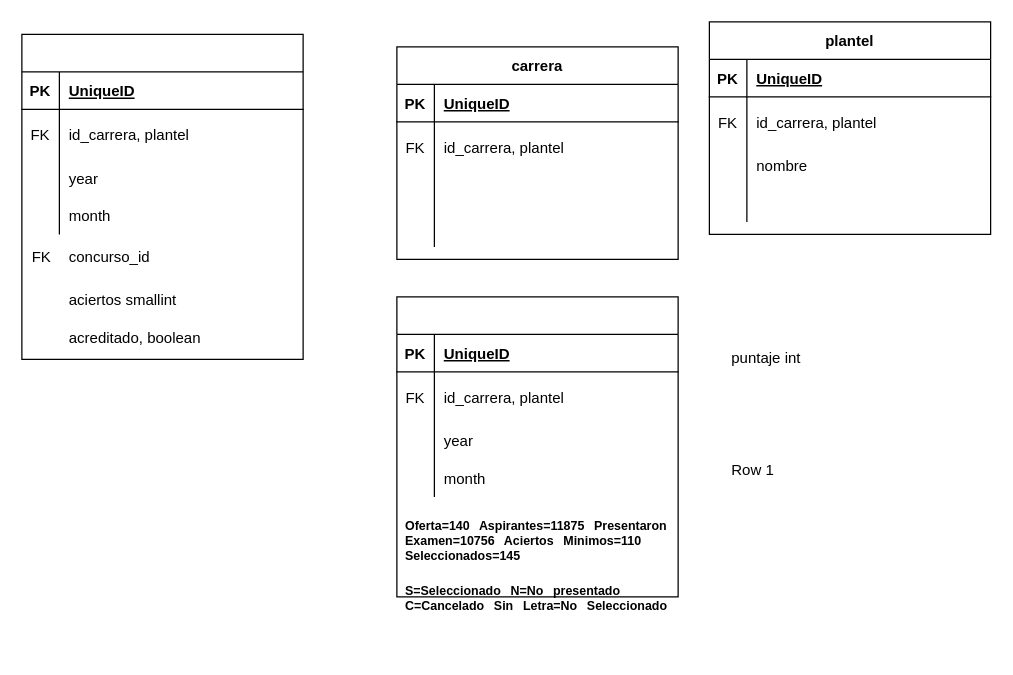
Image size: 1013x675. Some labels were removed from this diagram. Each missing label, with the box of its shape:
concurso: (396, 296, 678, 597)
puntajes: (21, 33, 303, 359)
